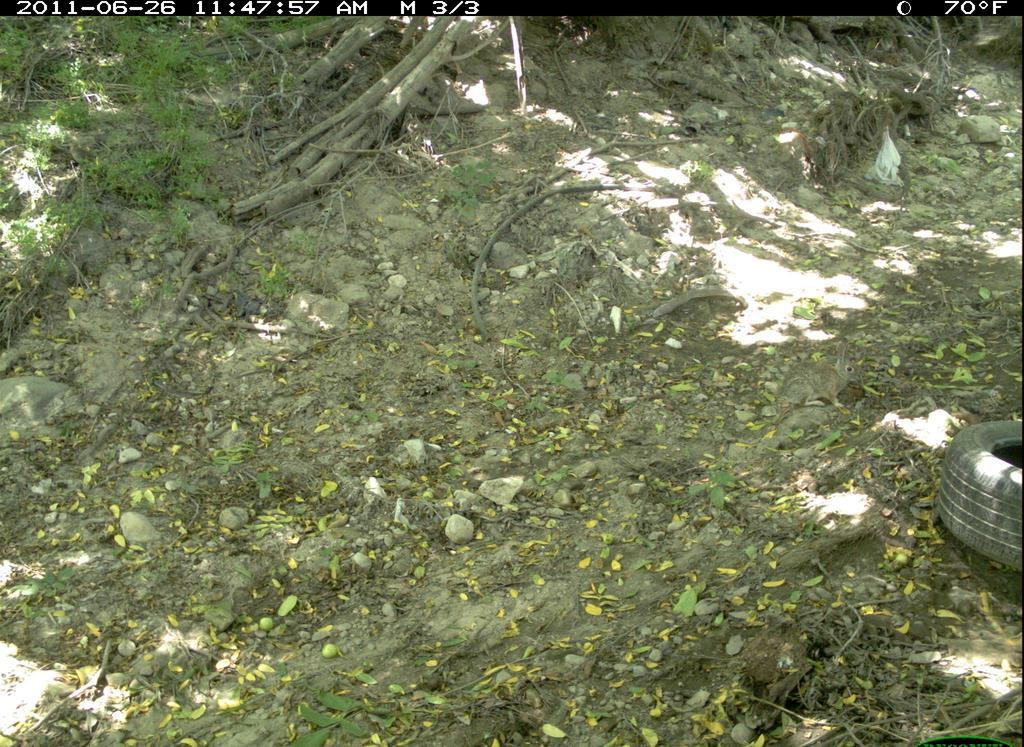rabbit: (776, 333, 868, 415)
